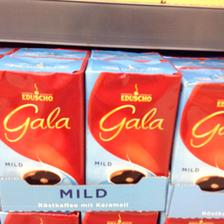Kaffee: (84, 57, 180, 182), (0, 53, 84, 183)
